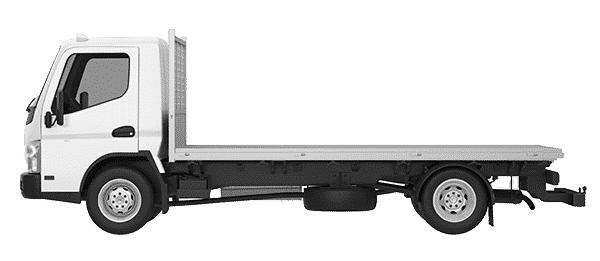truck: (19, 28, 586, 235)
